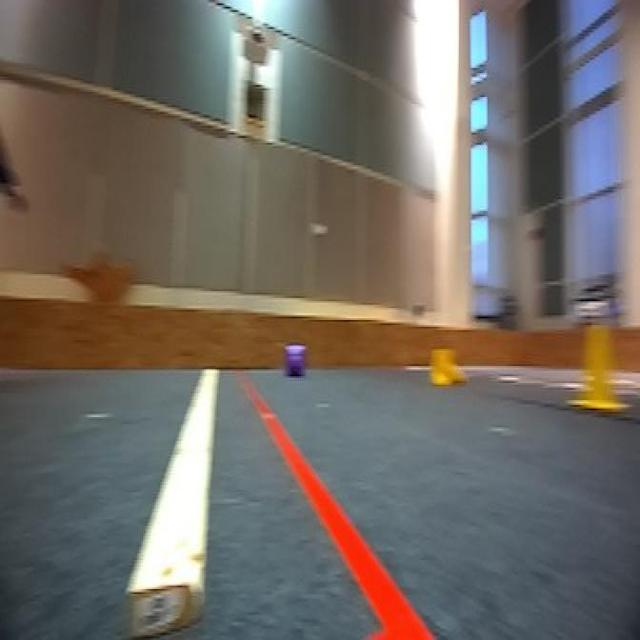frc_cone: (568, 315, 630, 415), (426, 344, 471, 391)
frc_cube: (284, 341, 308, 376)
